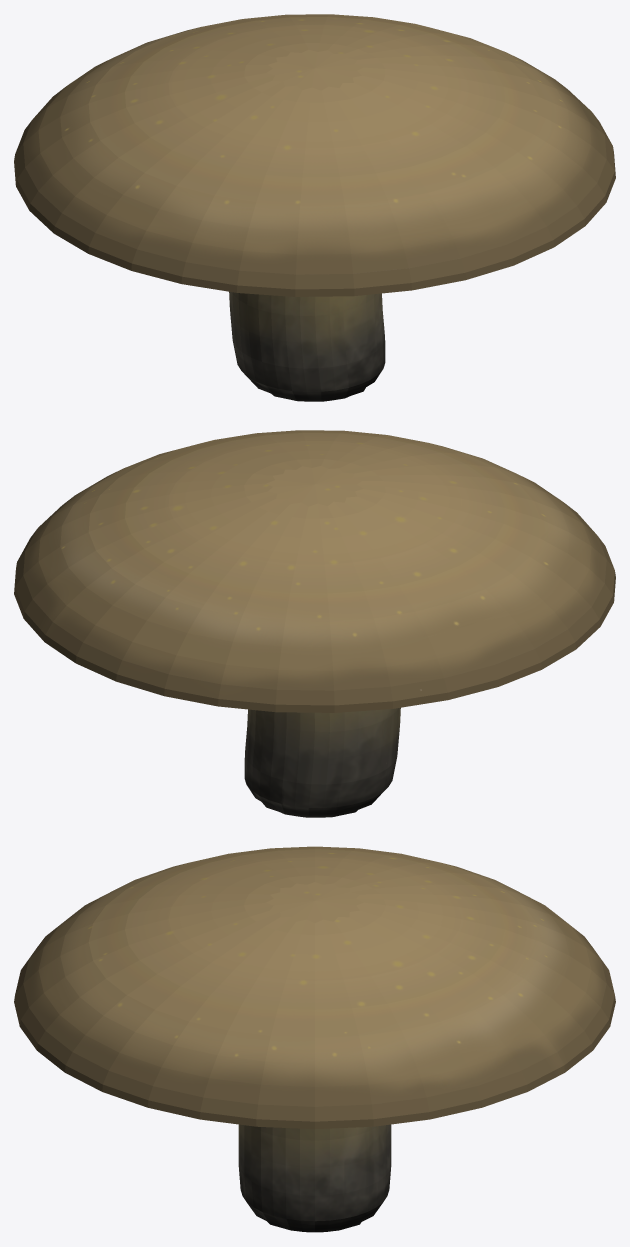
File: Mushroom.fbx
The picture shows the model from 3 angles, top to bottom: view 1: azimuth 30°, elevation 25°; view 2: azimuth 150°, elevation 25°; view 3: azimuth 270°, elevation 25°; orthographic projection.
Parts seen in each view (by area): view 1: Cylinder.001; view 2: Cylinder.001; view 3: Cylinder.001.
Part boxes in pixels (x1=…): Cylinder.001: x1=14, y1=14, x2=615, y2=401; Cylinder.001: x1=14, y1=430, x2=615, y2=817; Cylinder.001: x1=14, y1=846, x2=615, y2=1232.
Size of the model in its own units: 0.1918 by 0.1115 by 0.1918.
Materials: 1 (1 with a texture image).
